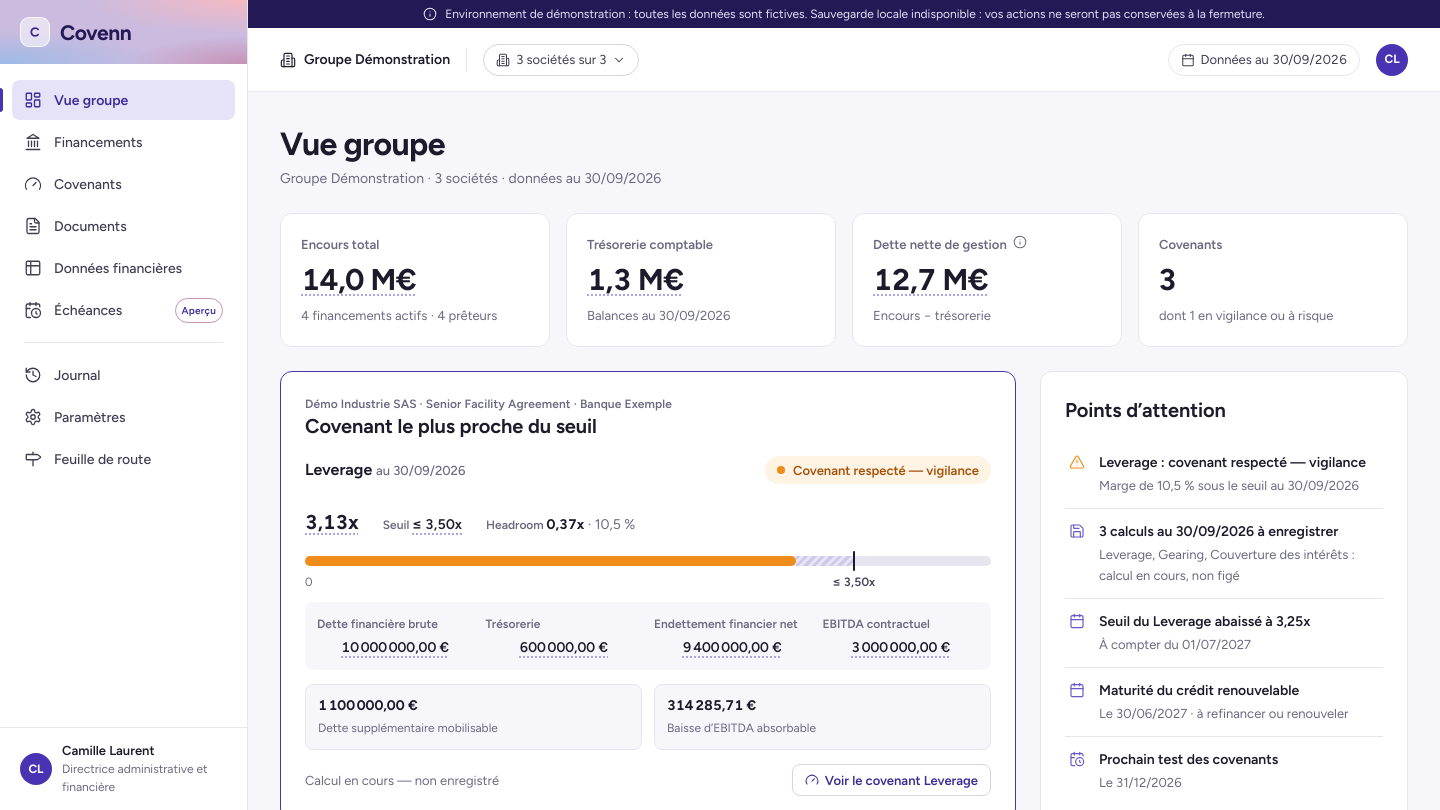
Test: BETA-07 — périmètre › décocher Démo Logistique SAS → 10,5 M€ et 2 financements ; recocher → valeurs initiales
Click the button with aria-label "Périmètre : 3 sociétés sur 3" at (561, 60), box [483,44,639,76]
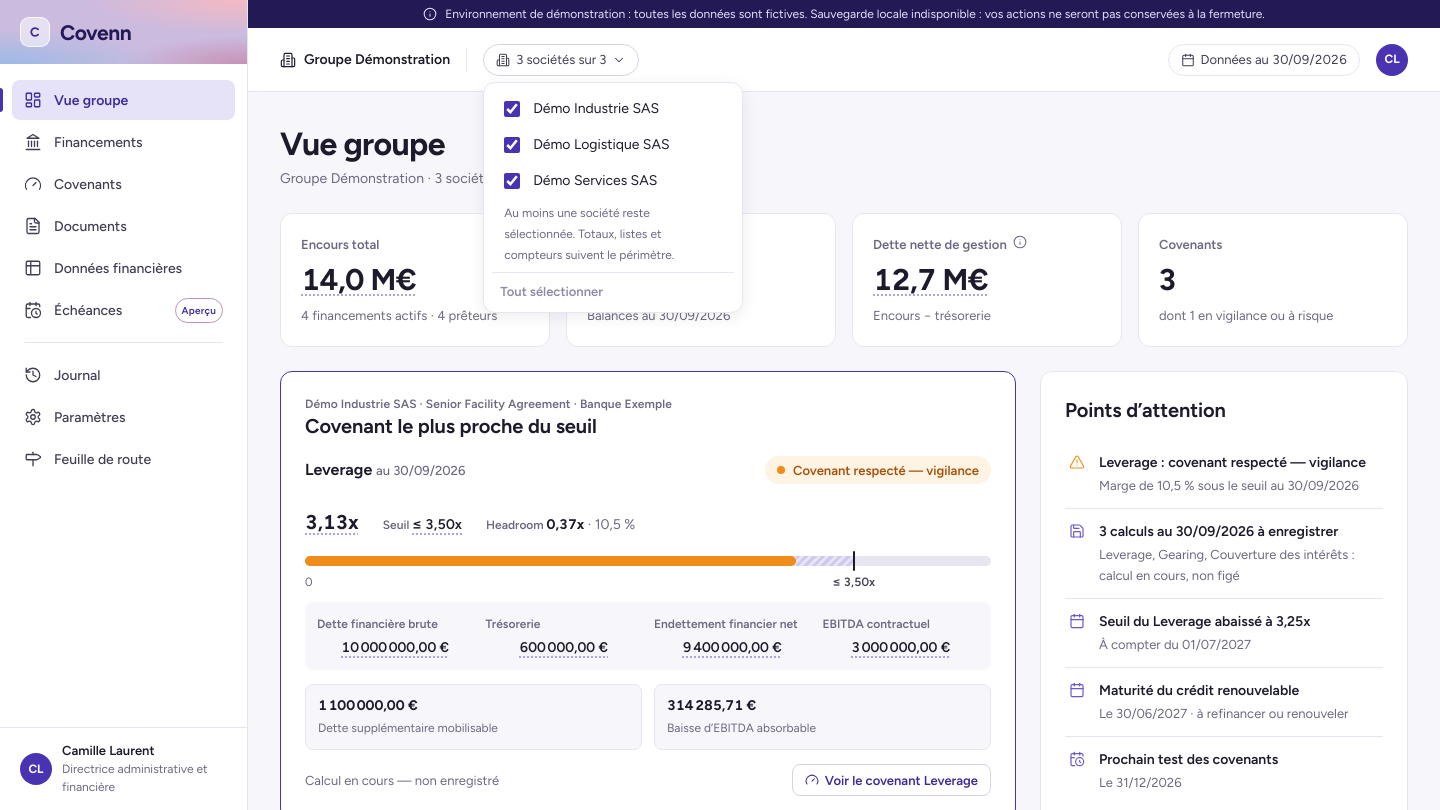
Click the checkbox labelled "Démo Logistique SAS" at (512, 144), box [504,136,520,152]
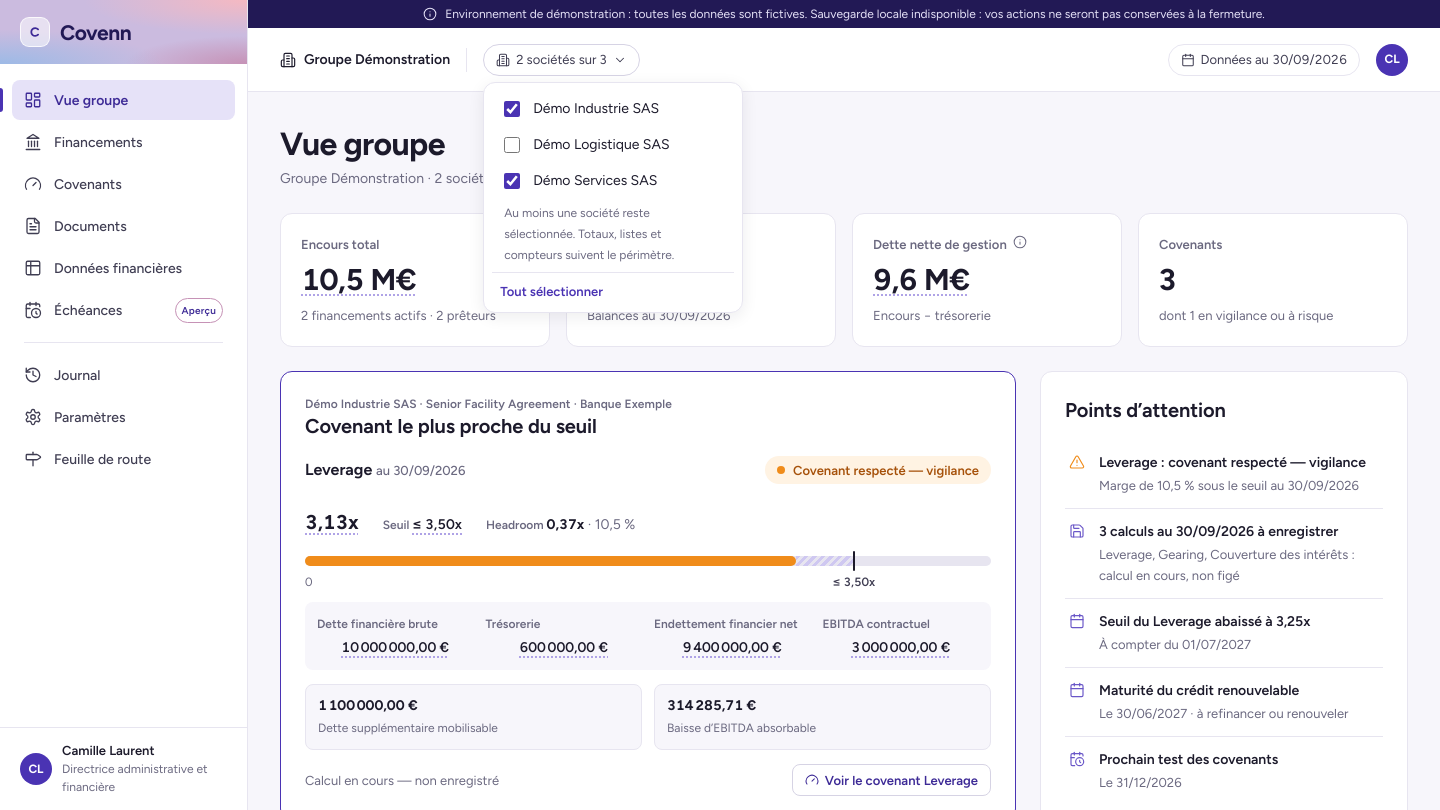
Expected: the text "10,5 M€" is shown, [299,261,418,299]
Expected: the text "2 financements actifs · 2 prêteurs" is shown, [301,305,529,326]
Click the link "Financements" at (83, 142), box [24,133,143,151]
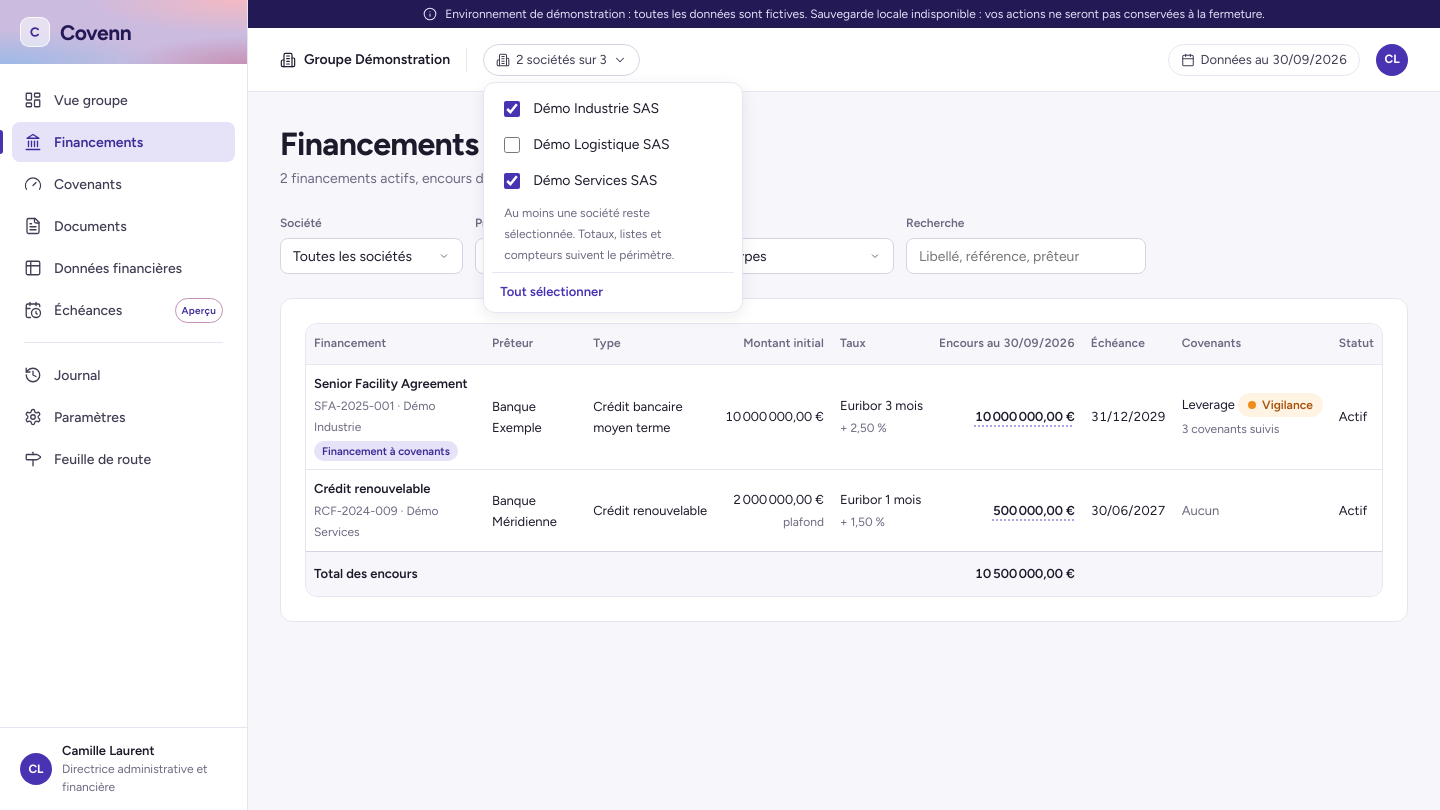
Expected: the text "10 500 000,00 €" is shown, [931,552,1083,596]
Click the checkbox labelled "Démo Logistique SAS" at (512, 144), box [504,136,520,152]
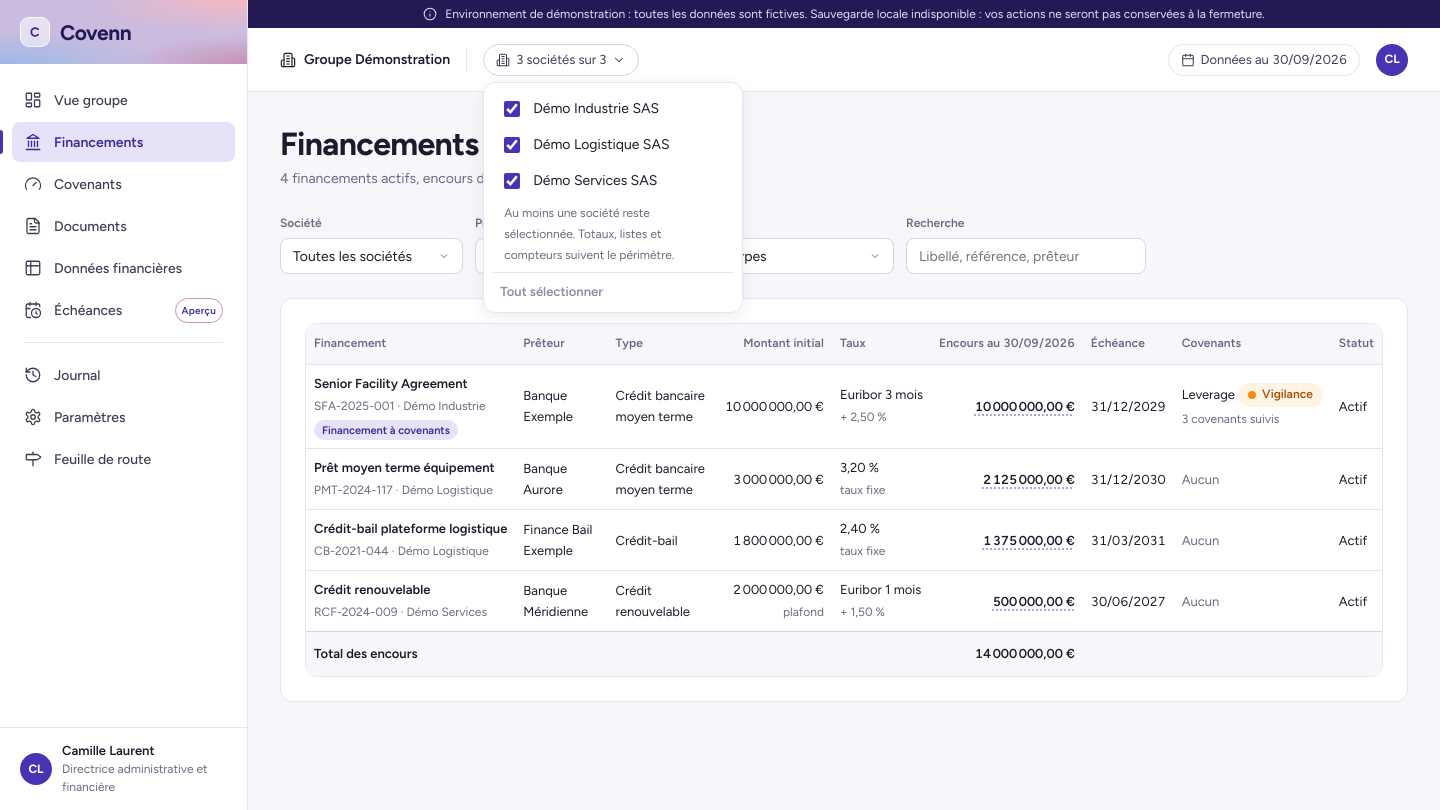
Click the link "Vue groupe" at (76, 100), box [24,91,128,109]
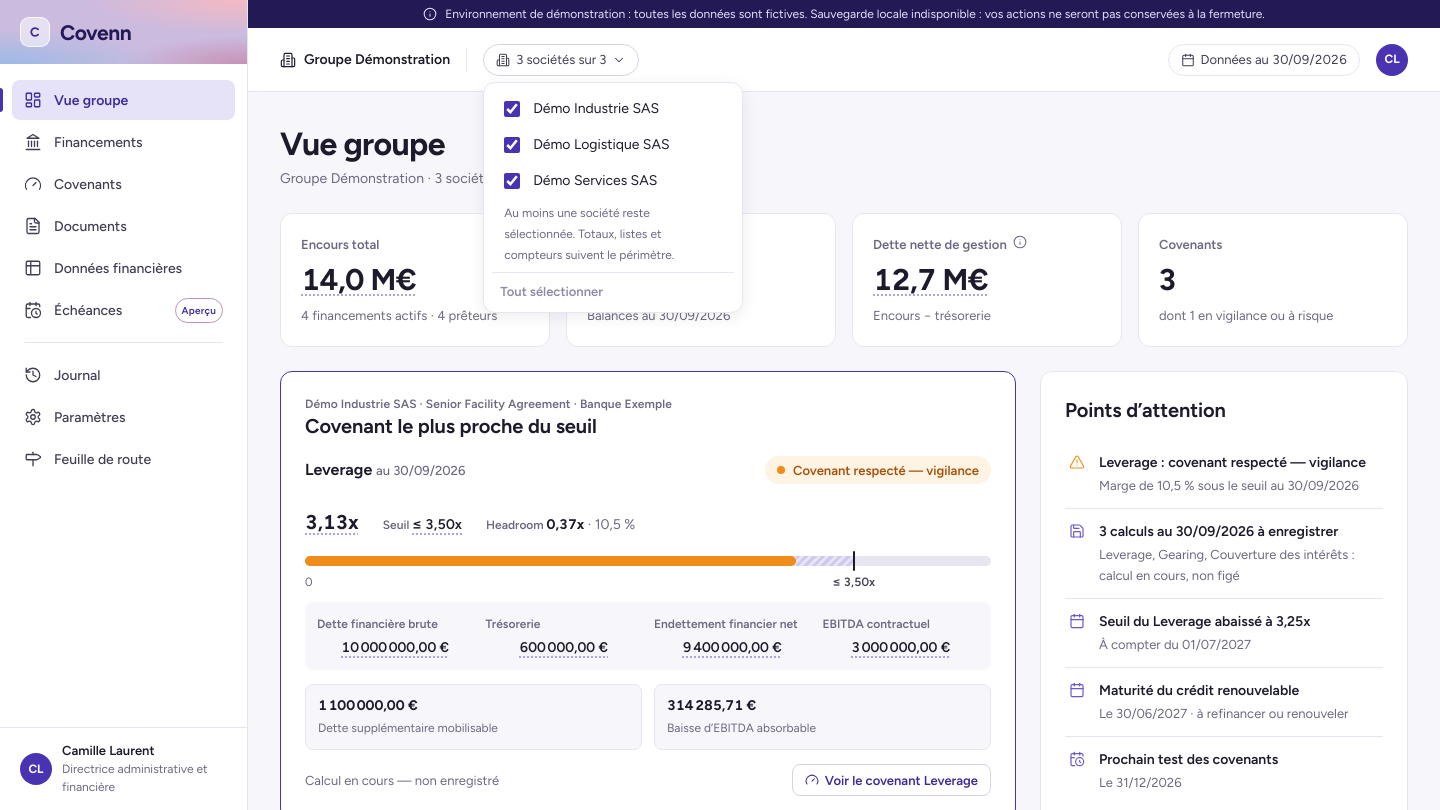
Expected: the button with aria-label "Périmètre : 3 sociétés sur 3" is shown, [483,44,639,76]
Expected: the text "14,0 M€" is shown, [299,261,418,299]
Expected: the text "4 financements actifs · 4 prêteurs" is shown, [301,305,529,326]
